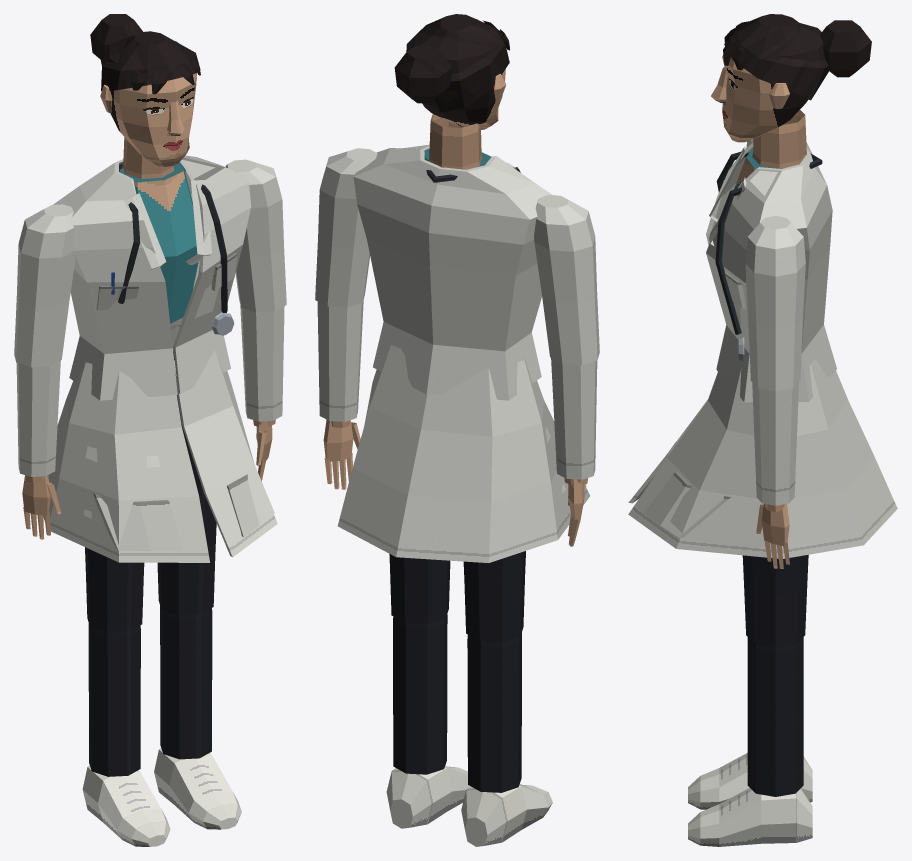
File: doctor_female.glb
The picture shows the model from 3 angles, left to right: view 1: azimuth 30°, elevation 25°; view 2: azimuth 150°, elevation 25°; view 3: azimuth 270°, elevation 25°; orthographic projection. The views are drawn at different scales.
Parts seen in each view (by area): view 1: coat_skirt, coat_upper, upper_arm_r, calf_r, calf_l, upper_arm_l, head_skull, scrub_top, lower_arm_r, shoe_l, shoe_r, lower_arm_l (+12 smaller); view 2: coat_upper, coat_skirt, upper_arm_r, calf_l, calf_r, upper_arm_l, lower_arm_r, lower_arm_l, thigh_r, shoe_r, hair_cap, shoe_l (+6 smaller); view 3: coat_skirt, coat_upper, upper_arm_l, calf_l, shoe_l, thigh_l, lower_arm_l, head_skull, hair_cap, shoe_r, hair_bun, neck_column (+3 smaller).
Boxes of the visible parts, x1,y1,x2,y2 form: coat_skirt: (43, 325, 277, 562); coat_upper: (53, 155, 251, 400); upper_arm_r: (14, 204, 75, 367); calf_r: (88, 623, 140, 776); calf_l: (160, 605, 212, 759); upper_arm_l: (225, 159, 286, 312); head_skull: (106, 36, 196, 166); scrub_top: (119, 162, 198, 323); lower_arm_r: (16, 360, 60, 482); shoe_l: (154, 748, 241, 829); shoe_r: (82, 765, 170, 846); lower_arm_l: (240, 305, 284, 426); coat_upper: (353, 144, 552, 400); coat_skirt: (337, 345, 590, 562); upper_arm_r: (534, 195, 599, 364); calf_l: (393, 614, 447, 774); calf_r: (467, 632, 521, 792); upper_arm_l: (315, 148, 377, 307); lower_arm_r: (551, 358, 597, 485); lower_arm_l: (317, 300, 363, 427); thigh_r: (463, 551, 525, 642); shoe_r: (461, 784, 552, 846); hair_cap: (406, 14, 509, 112); shoe_l: (386, 765, 469, 828); coat_skirt: (628, 359, 897, 558); coat_upper: (706, 141, 836, 402); upper_arm_l: (745, 216, 805, 391); calf_l: (747, 637, 803, 796); shoe_l: (688, 788, 812, 846); thigh_l: (742, 554, 808, 647); lower_arm_l: (752, 382, 798, 511); head_skull: (722, 22, 824, 142); hair_cap: (724, 14, 829, 100); shoe_r: (688, 753, 812, 809); hair_bun: (820, 20, 871, 77); neck_column: (752, 110, 806, 168).
Bounding box in the file's own units: 0.6248 × 1.72 × 0.5233.
Materials: 1 (1 with a texture image).
